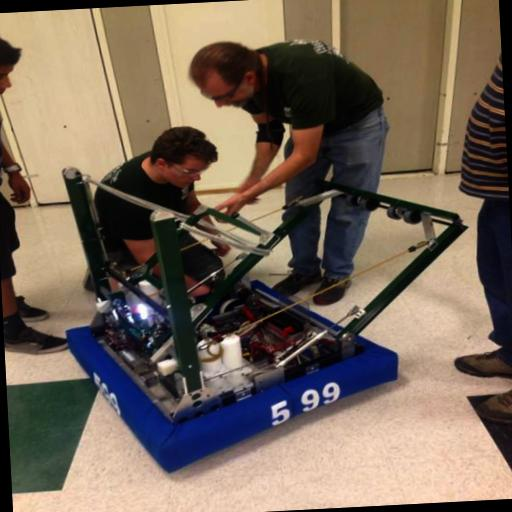robot: (47, 146, 481, 474)
